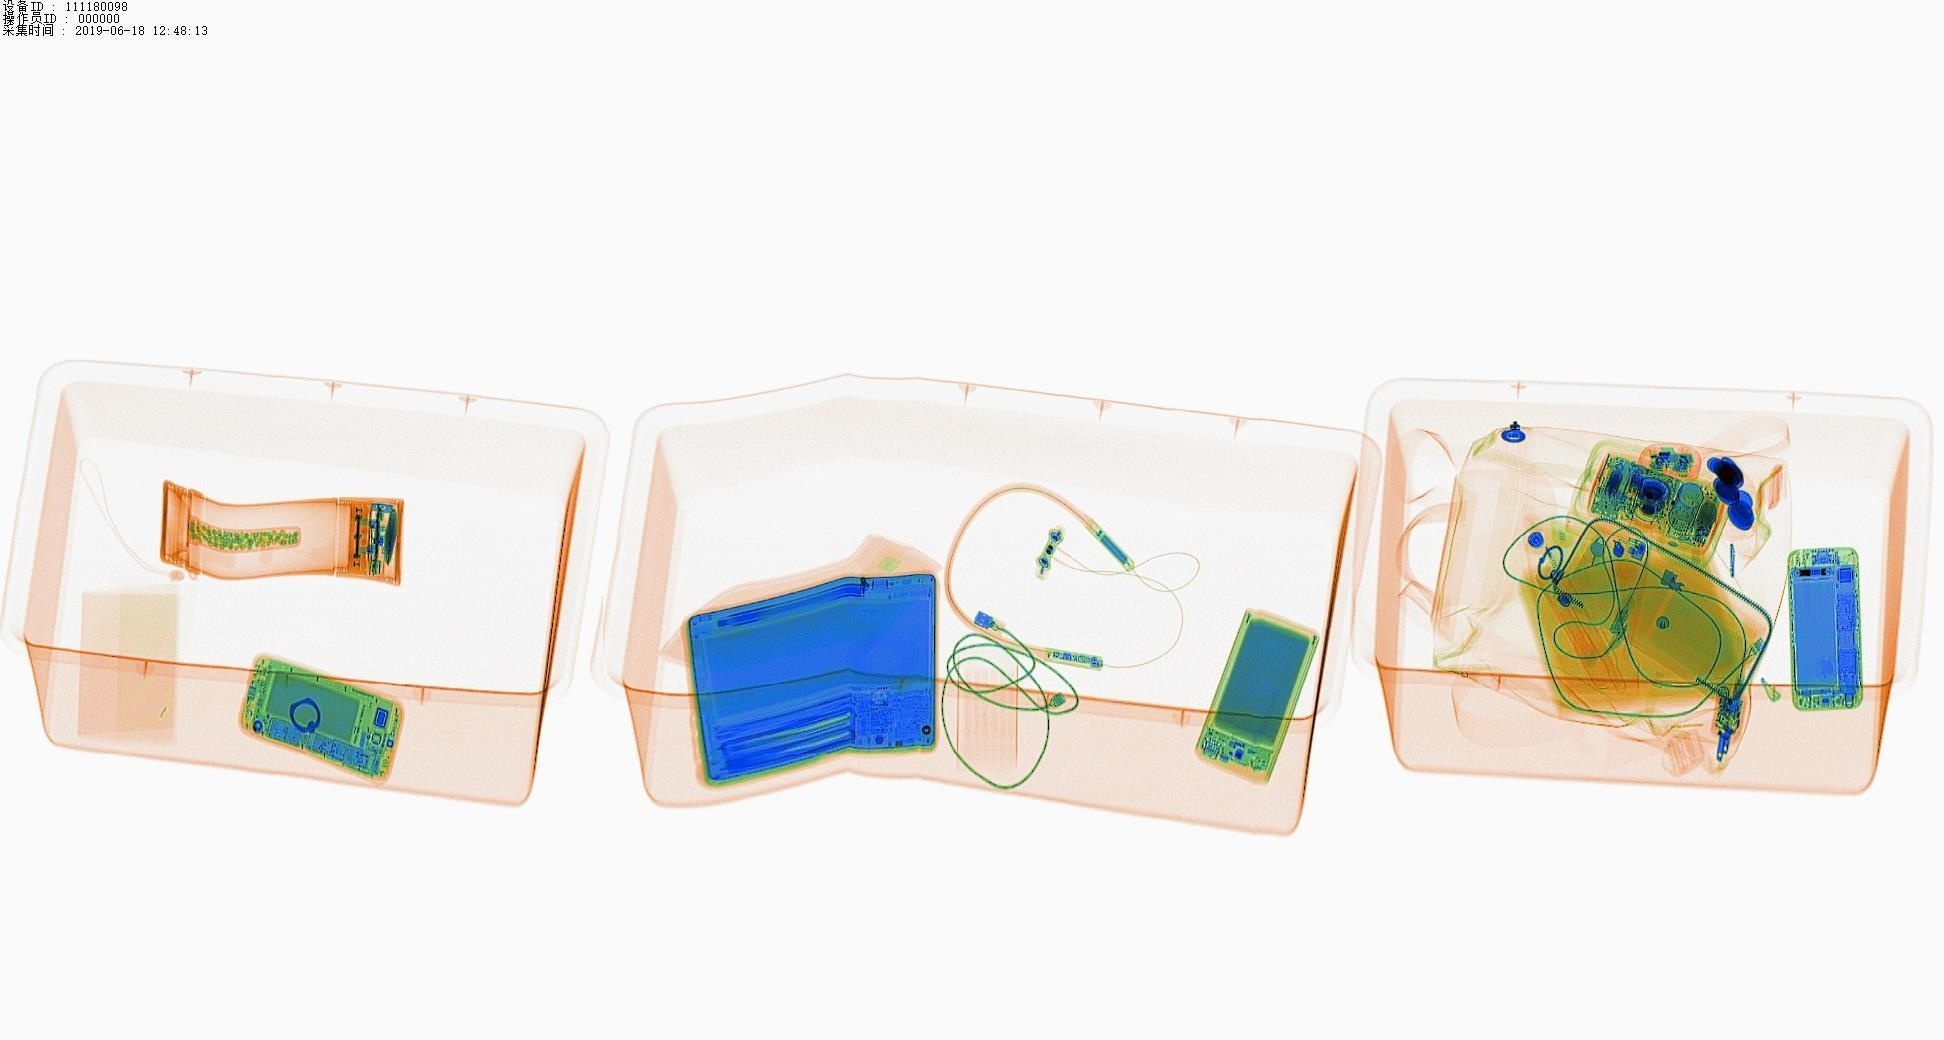NonmetallicFire: (1566, 508, 1664, 575)
